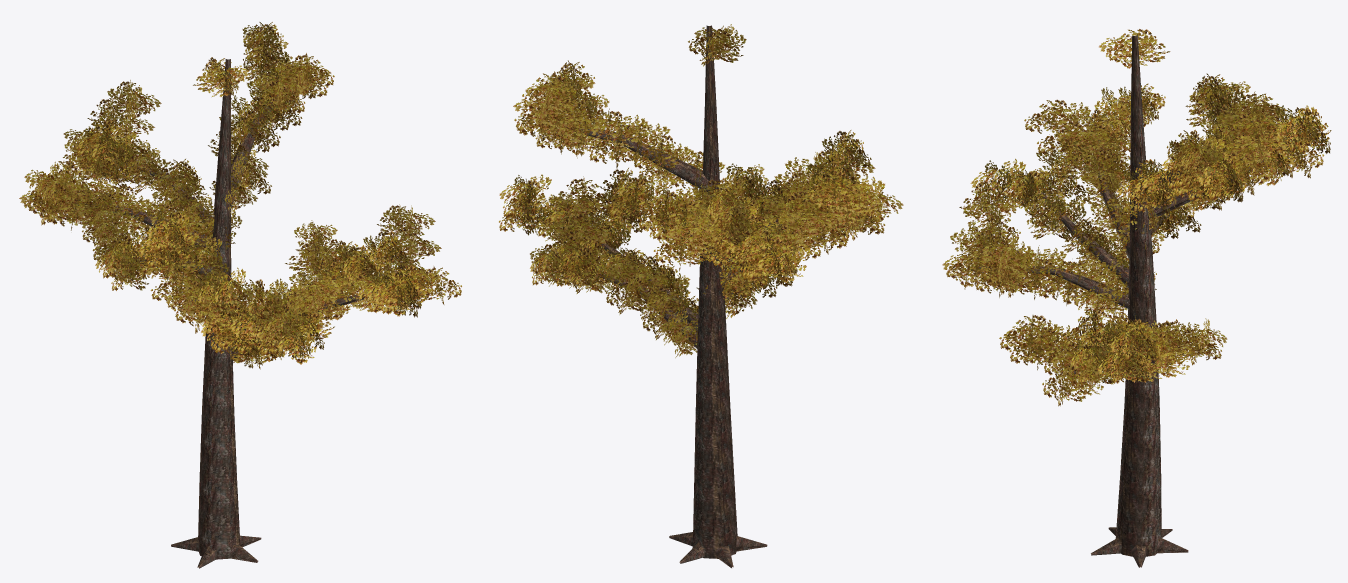
File: tree_3d_05_yellow_lod1.glb
3 renders of one model, left to right at view 1: azimuth 30°, elevation 25°; view 2: azimuth 150°, elevation 25°; view 3: azimuth 270°, elevation 25°, orthographic. The views are drawn at different scales.
Parts seen in each view (by area): view 1: foliage_cards, wood_geometry; view 2: foliage_cards, wood_geometry; view 3: foliage_cards, wood_geometry.
Boxes of the visible parts, left/top/right/bottom form: foliage_cards: left=19, top=22, right=461, bottom=369; wood_geometry: left=53, top=59, right=427, bottom=568; foliage_cards: left=499, top=24, right=903, bottom=357; wood_geometry: left=539, top=25, right=830, bottom=568; foliage_cards: left=942, top=29, right=1331, bottom=406; wood_geometry: left=978, top=35, right=1281, bottom=567.
Bounding box in the file's own units: 11.18 × 14.65 × 10.09.
Materials: 2 (2 with a texture image).
